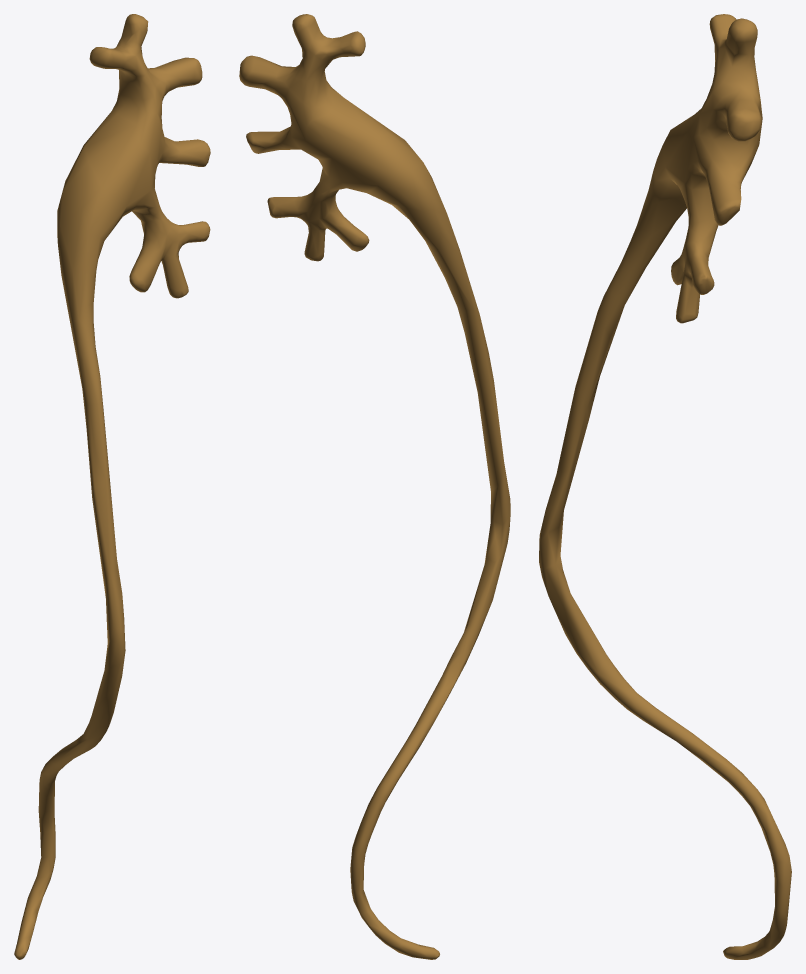
The model's file is Ureter_left.glb.
3 views of the same model, side by side, from view 1: azimuth 30°, elevation 25°; view 2: azimuth 150°, elevation 25°; view 3: azimuth 270°, elevation 25° (orthographic). The views are drawn at different scales.
Visible parts, largest first — view 1: Ureter.l_grp1.763; view 2: Ureter.l_grp1.763; view 3: Ureter.l_grp1.763.
Part boxes in pixels (left/top/right/bottom): Ureter.l_grp1.763: left=14, top=14, right=210, bottom=959; Ureter.l_grp1.763: left=239, top=14, right=510, bottom=959; Ureter.l_grp1.763: left=539, top=14, right=791, bottom=959.
Bounding box in the file's own units: 0.0561 × 0.2545 × 0.0581.
